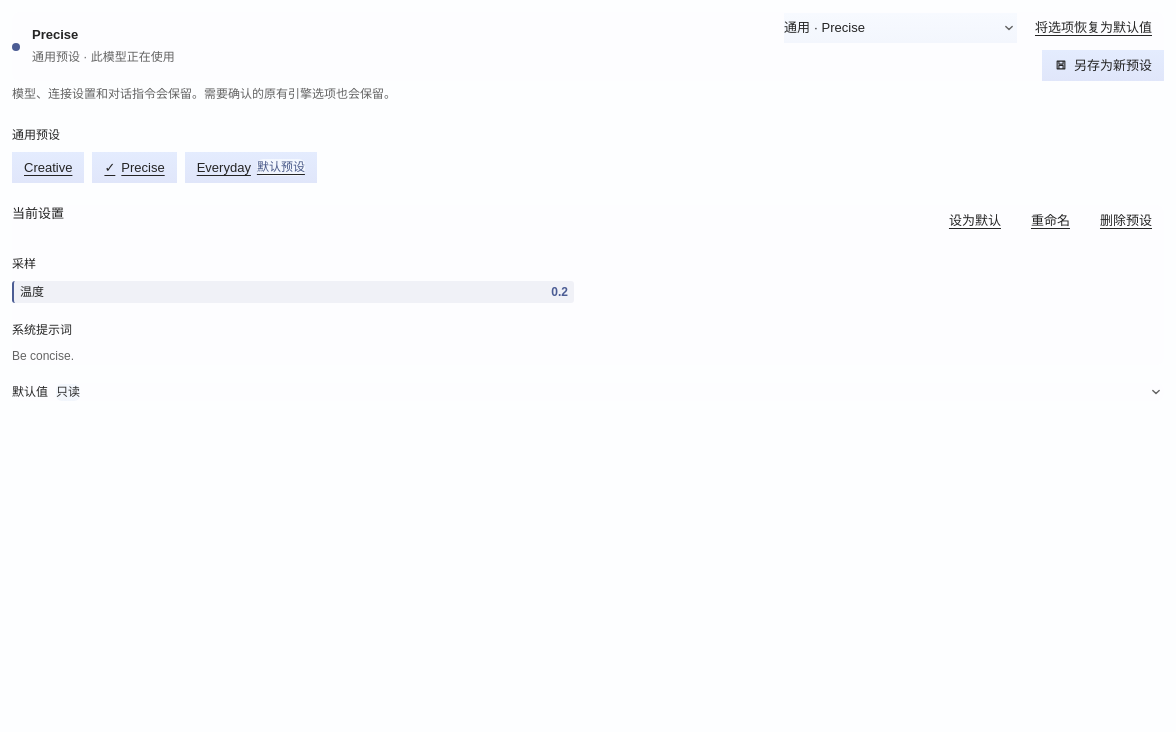
Test: settings profile workspace › keeps creation and profile selection distinct in every layout in zh
Expected: the number of buttons "另存为新预设" is 1, [1042,50,1164,81]
Click the button "Creative" at (48, 167), box [12,152,84,183]
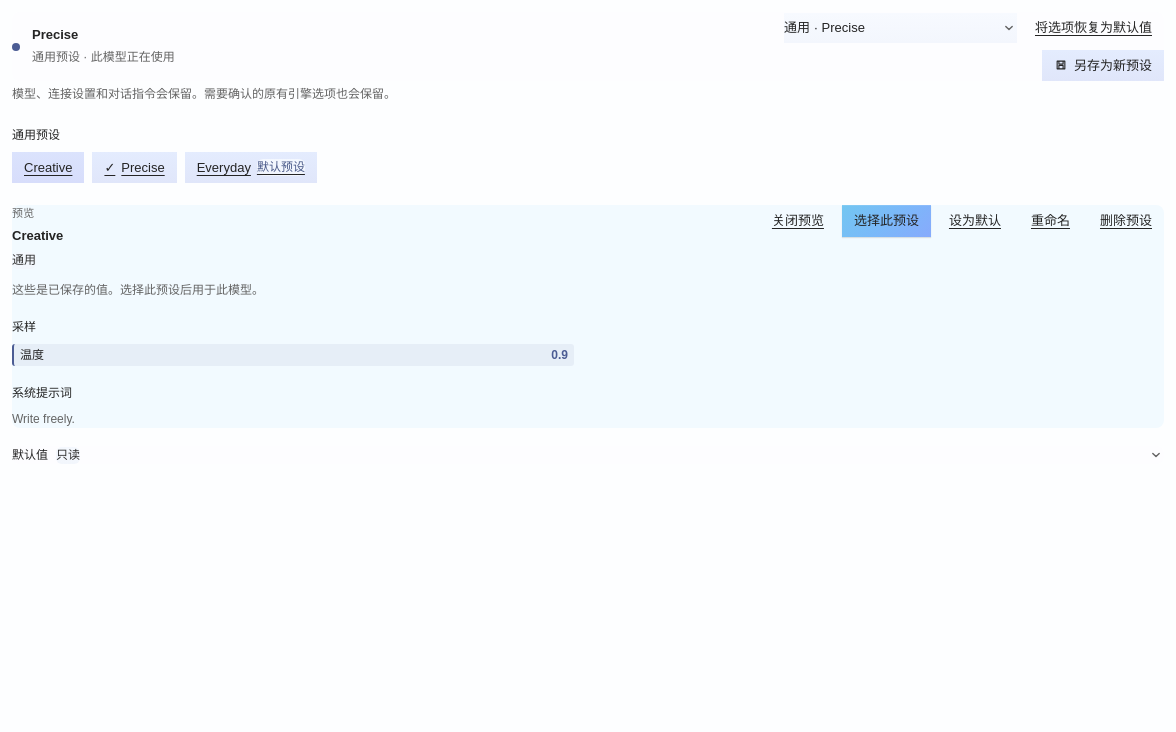
Expected: the button "选择此预设" is enabled, [842,205,931,237]
Click the button "另存为新预设" at (1103, 65), box [1042,50,1164,81]
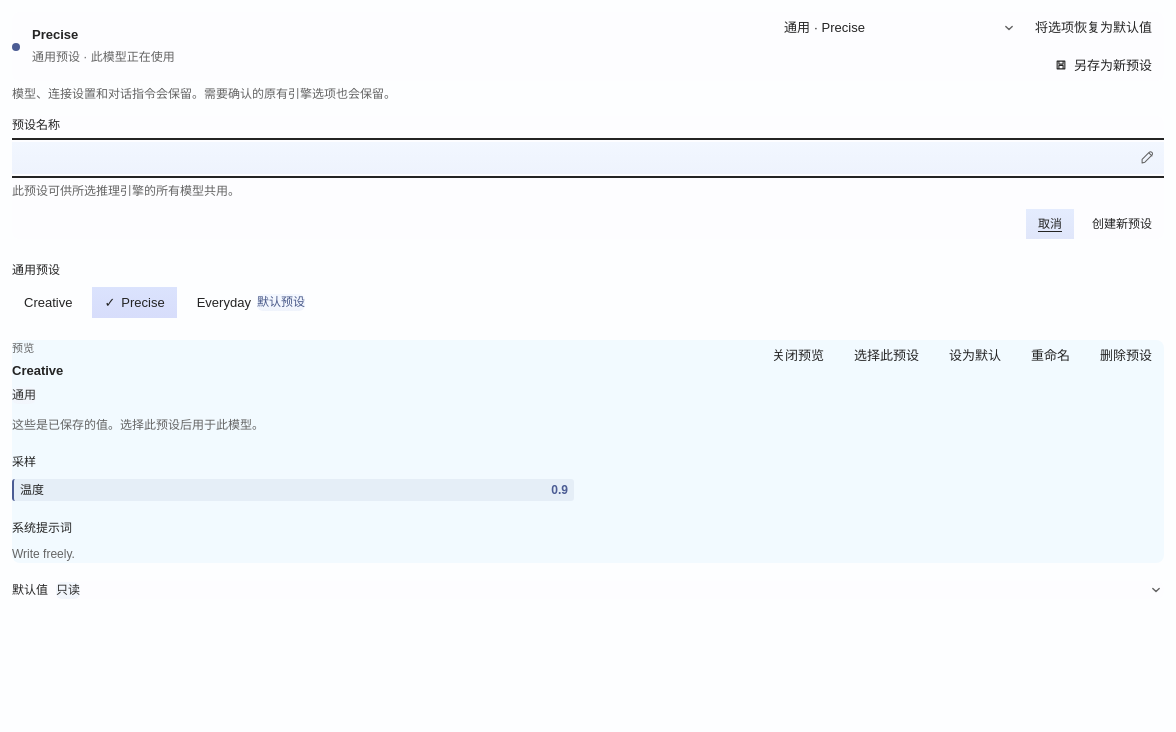
Expected: the button "创建新预设" is disabled, [1080,209,1164,239]
